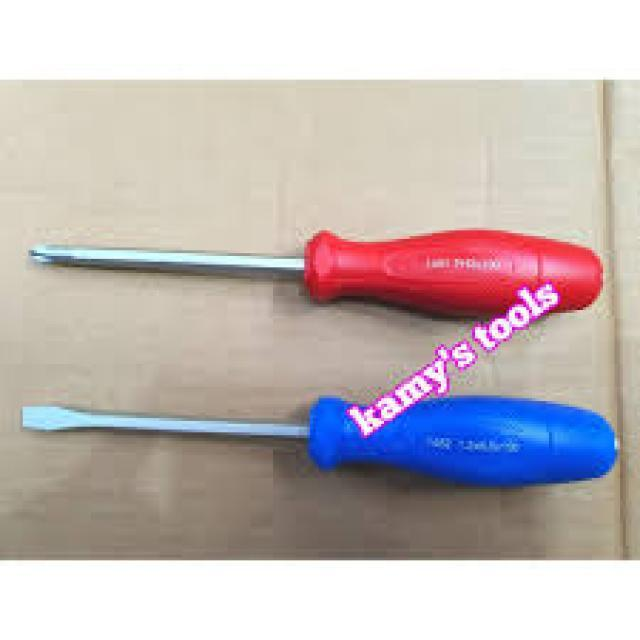screwdriver: (19, 392, 618, 490), (26, 222, 608, 318)
